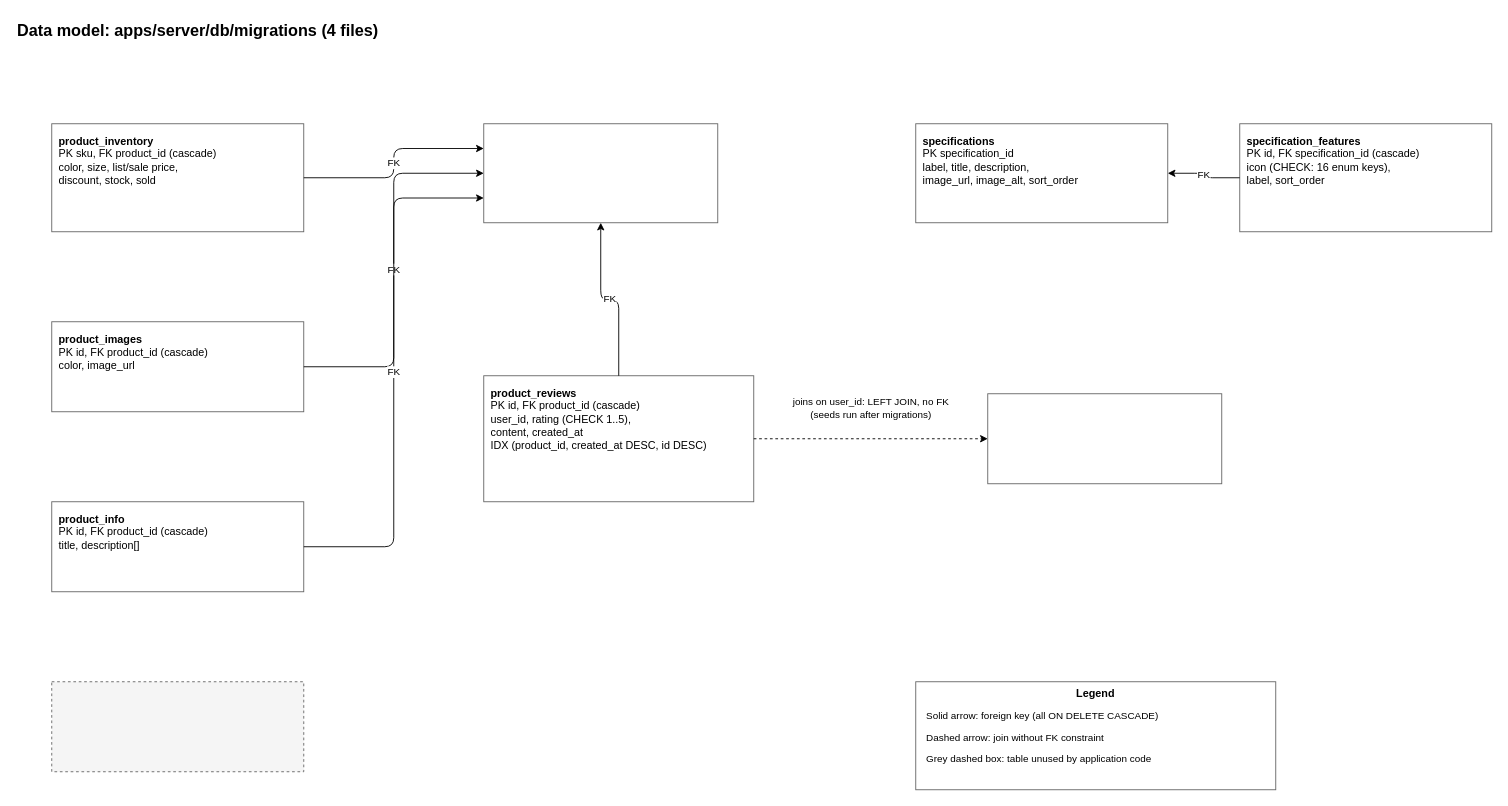
This 1508x806 diagram has some shape labels left out. Each missing label, with the centre of its shape:
products PK product_id name, description, category, collection: pixel 600 173
review_authors PK user_id name, avatar_url: pixel 1104 438
users (unused, future auth) PK id, unique email, address fields, role: pixel 177 726
